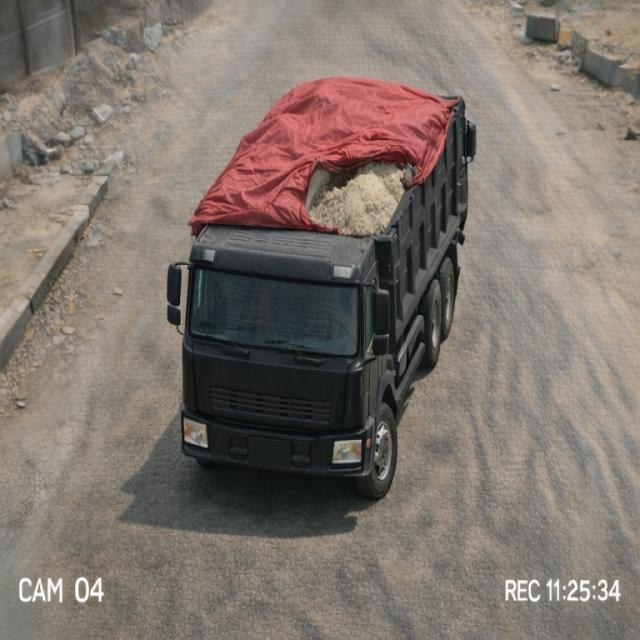trailer: (194, 84, 471, 216)
truck: (166, 53, 479, 493)
